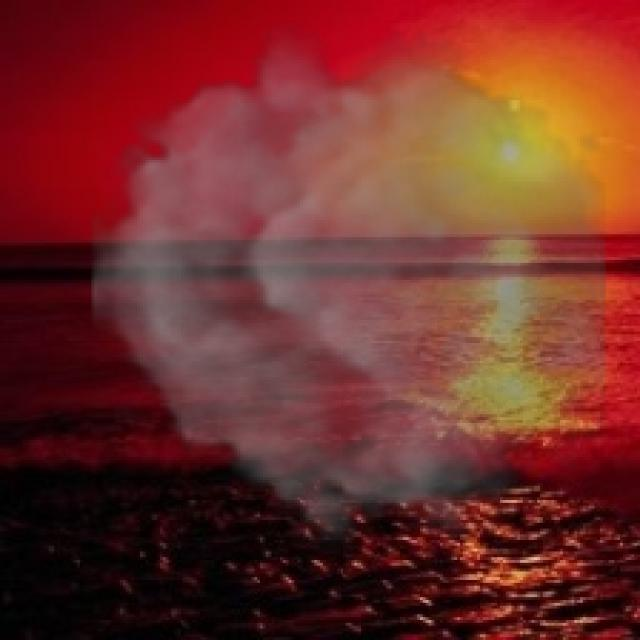smoke: (91, 20, 606, 560)
